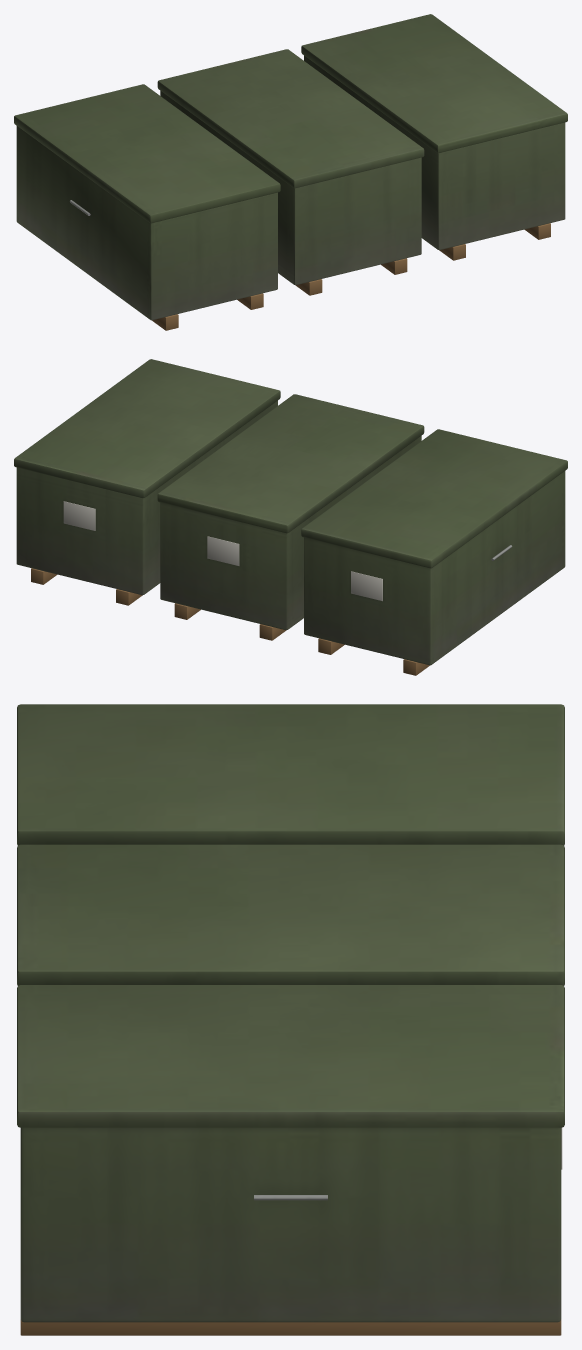
File: polar-chief-stowed.glb
The picture shows the model from 3 angles, top to bottom: view 1: azimuth 30°, elevation 25°; view 2: azimuth 150°, elevation 25°; view 3: azimuth 270°, elevation 25°; orthographic projection. The views are drawn at different scales.
Visible parts, largest first — view 1: POLARCHIEF_packed; view 2: POLARCHIEF_packed; view 3: POLARCHIEF_packed.
Boxes of the visible parts, <box> form: POLARCHIEF_packed: <box>14,14,567,330</box>; POLARCHIEF_packed: <box>14,359,567,675</box>; POLARCHIEF_packed: <box>17,704,564,1335</box>.
Bounding box in the file's own units: 3.98 × 1.08 × 2.23.
4 materials, 2 textured.
